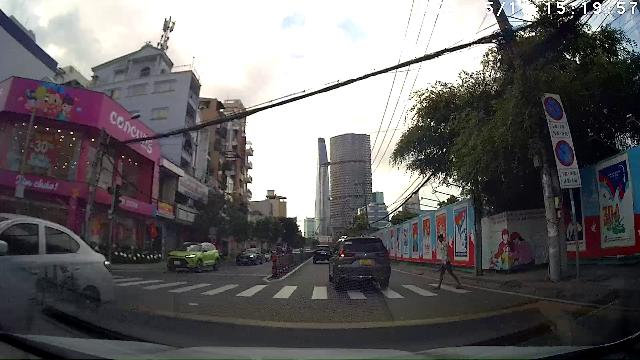130-cam-dung-va-do-xe: (544, 96, 564, 121)
131a-cam-do-xe: (555, 140, 575, 167)
